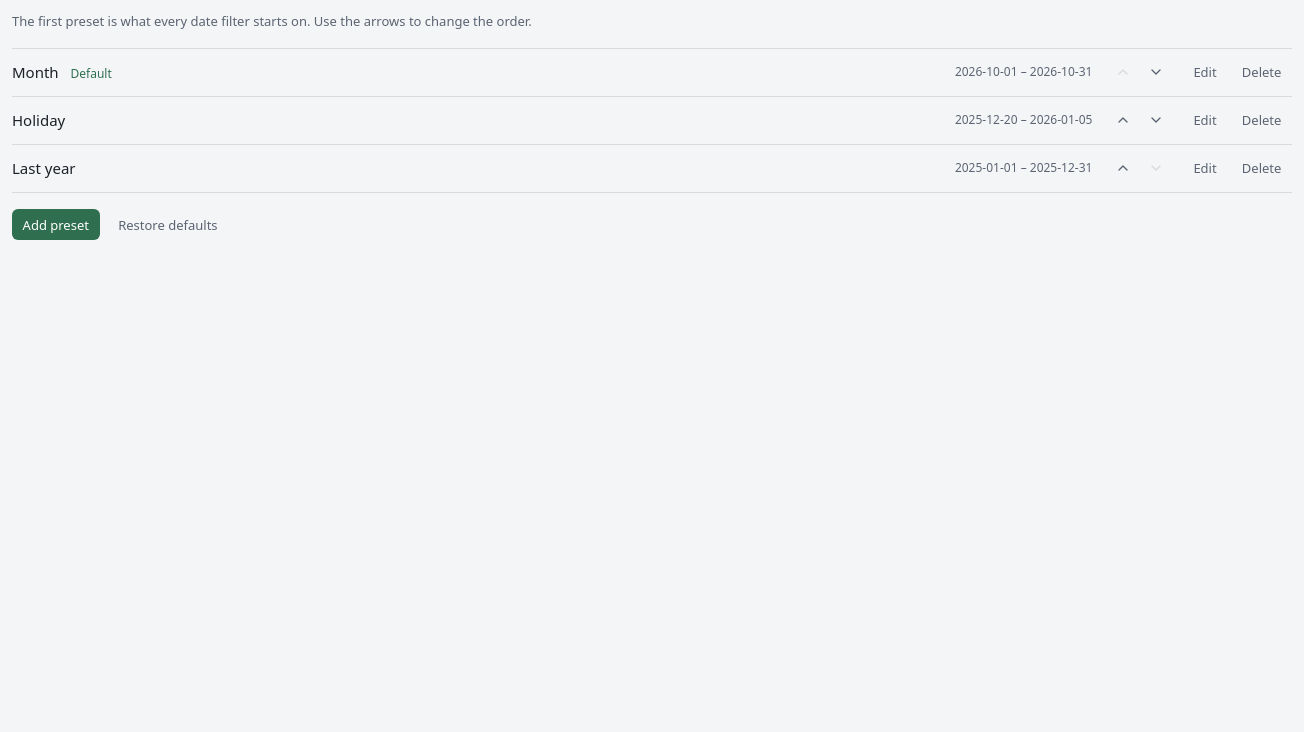
Scenario: DatePresetsComponent › keeps the editor open and shows the error when saving fails
This screenshot has width=1304, height=732.
Click the button "Edit" next to "2026-10-01 – 2026-10-31". click: (1205, 72)
box: [1183,56,1227,88]
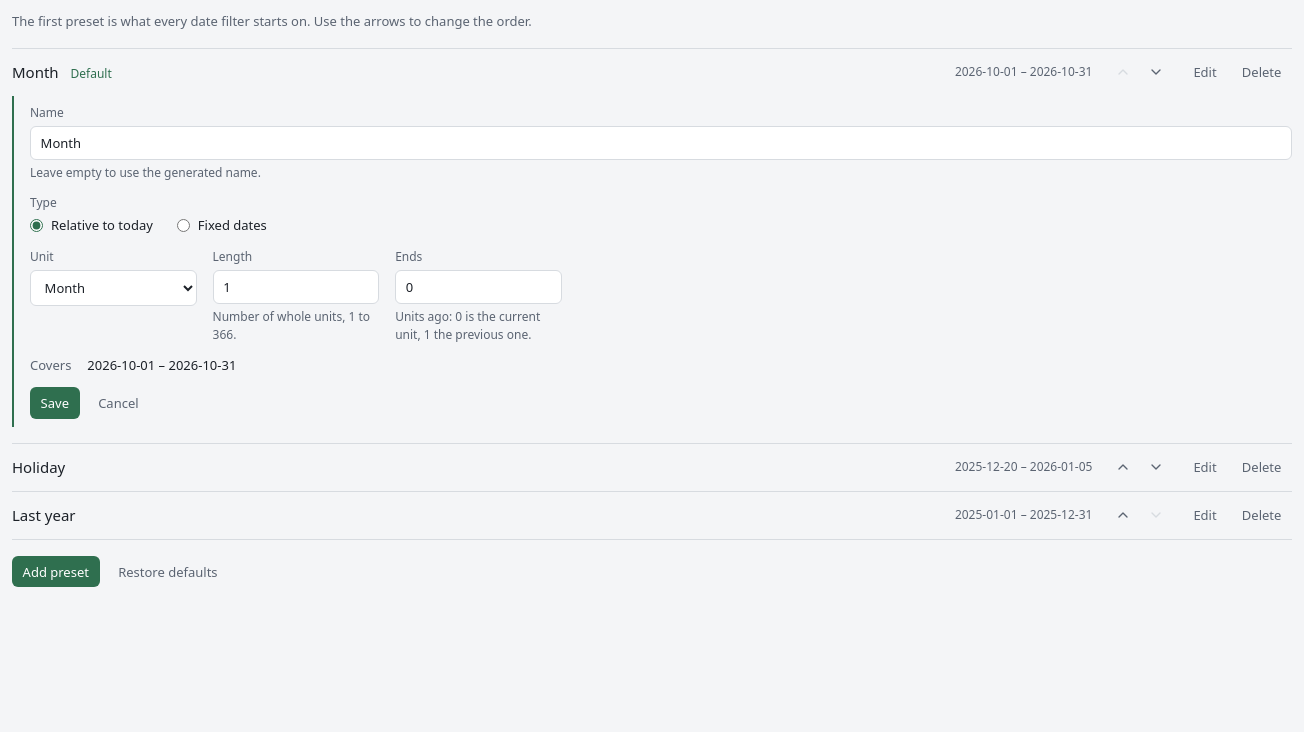
Click the button with class "editor__save". click: (55, 403)
box: [30,387,80,419]
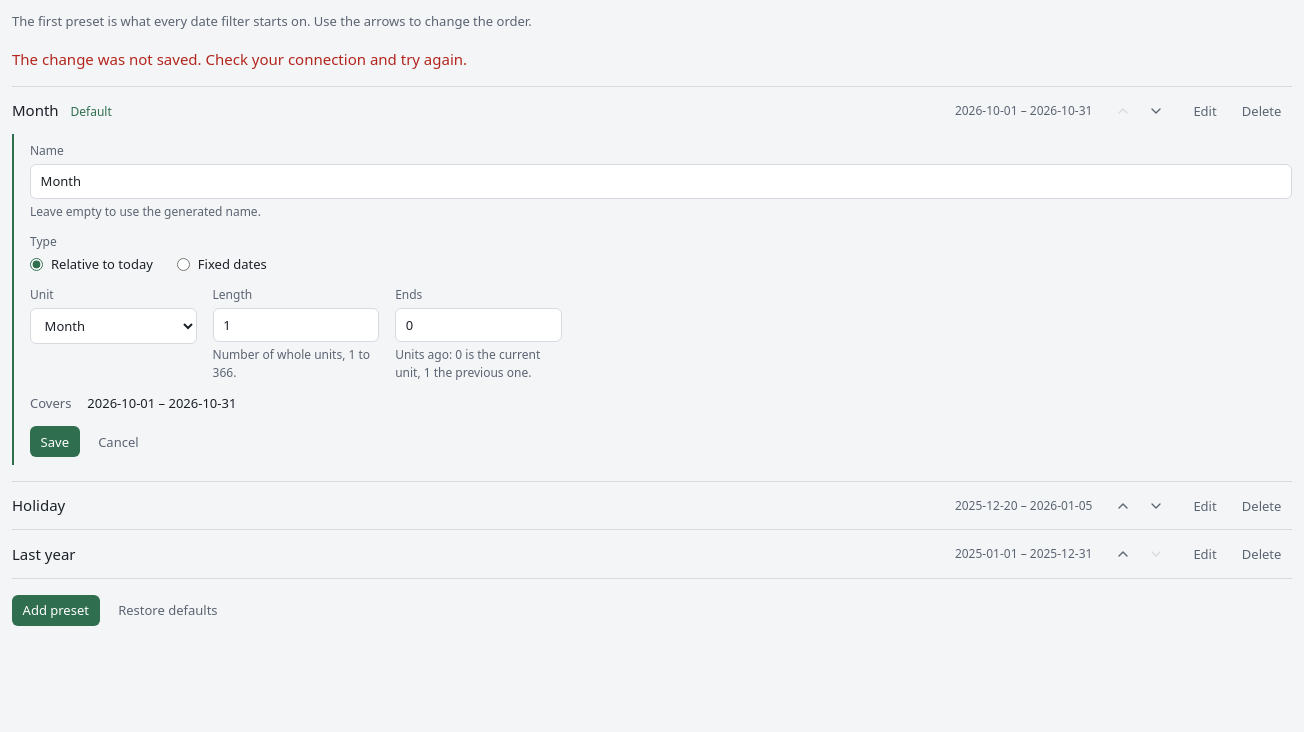
Now the form with class "editor" is shown, box [12,134,1292,465]
Now the message "The change was not saved. Check your connection and try again." is shown, box [12,48,467,68]
